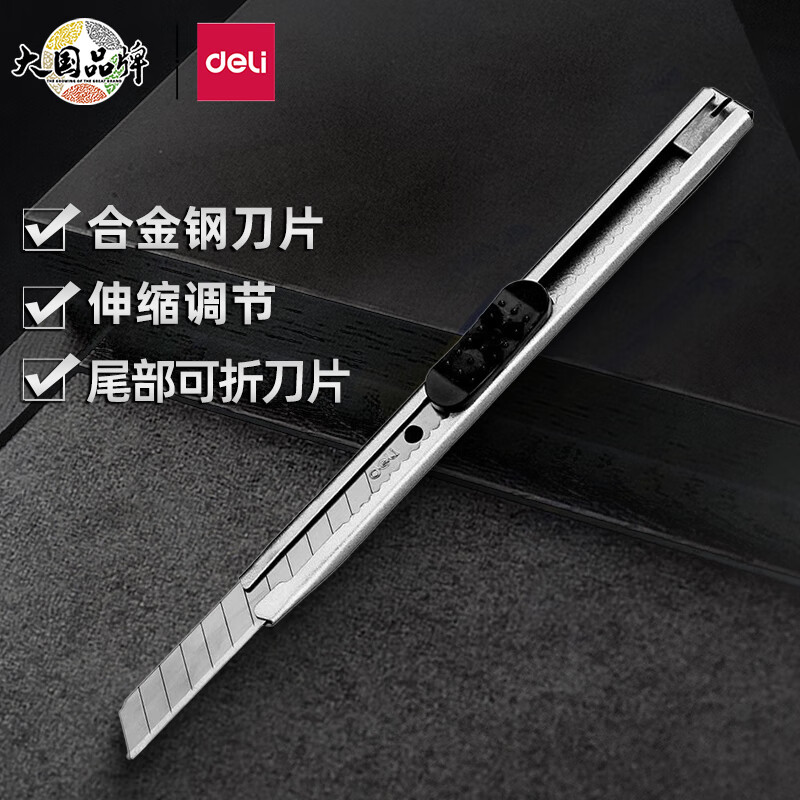cutter: (117, 86, 760, 767)
